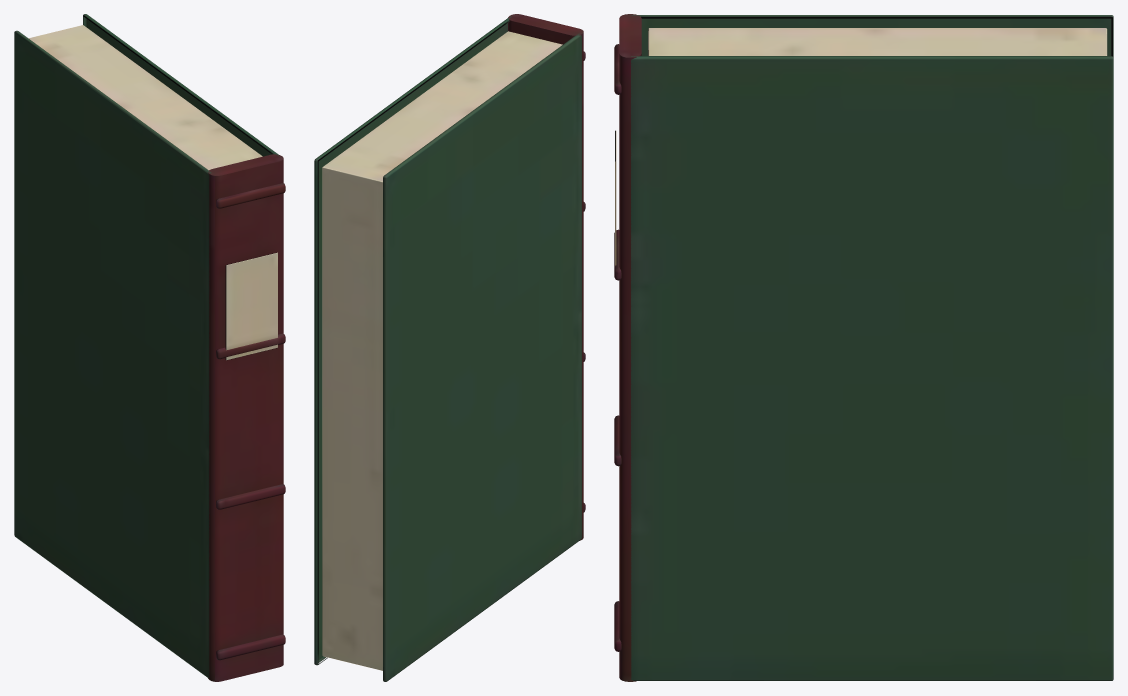
Rendered from ledger-a.glb.
3 views of the same model, side by side, from view 1: azimuth 30°, elevation 25°; view 2: azimuth 150°, elevation 25°; view 3: azimuth 270°, elevation 25° (orthographic). The views are drawn at different scales.
Visible parts, largest first — view 1: ledger; view 2: ledger; view 3: ledger.
Boxes of the visible parts, x1,y1,x2,y2 form: ledger: (14,14,285,681); ledger: (314,14,585,681); ledger: (614,14,1113,681).
Bounding box in the file's own units: 0.056 × 0.372 × 0.2698.
1 material, 1 textured.
